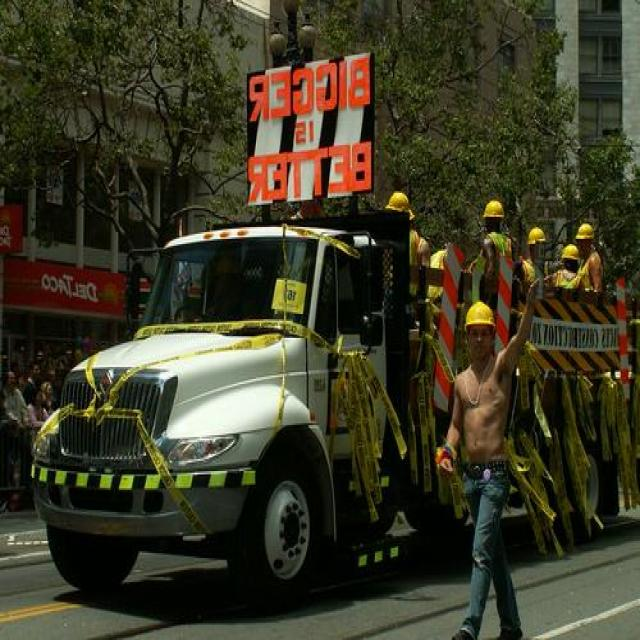Reflective-Jacket: (475, 229, 518, 307), (576, 249, 607, 297)
Safety-Helmet: (460, 297, 500, 334), (379, 184, 417, 222), (476, 193, 511, 225), (572, 218, 599, 246), (524, 222, 549, 249), (558, 240, 582, 264)
